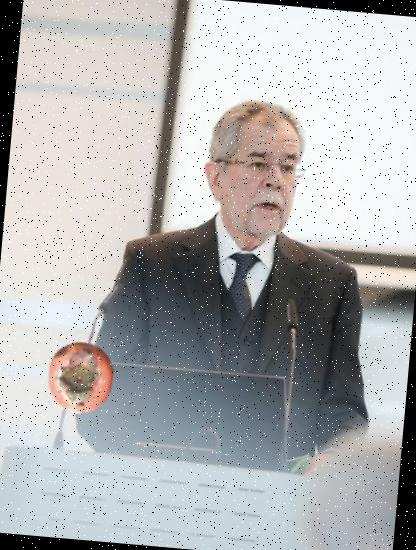Kaki: (42, 338, 121, 417)
